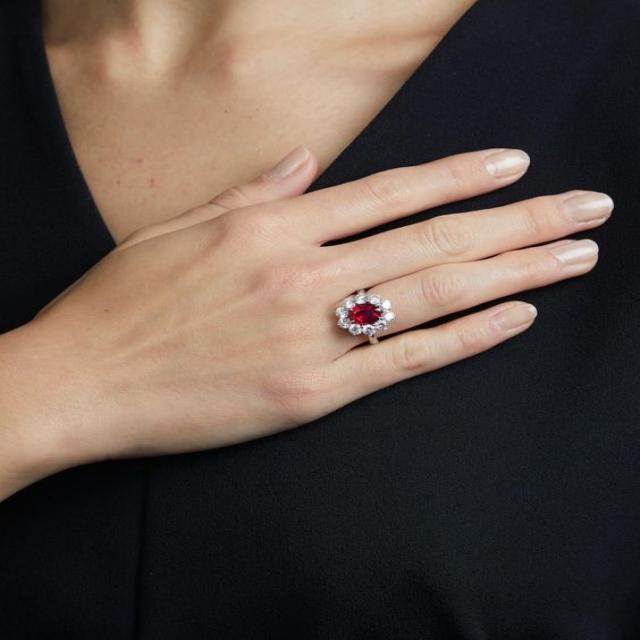Fingernail: (262, 146, 307, 180), (565, 193, 614, 222), (484, 150, 530, 179), (552, 239, 598, 265), (495, 304, 537, 330)
